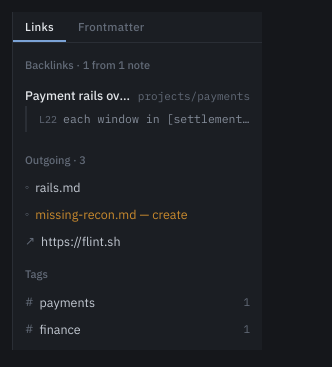
Scenario: RightSidebar › switches to the Frontmatter tab via click and shows its fields
This screenshot has width=332, height=367.
Expected: the text "title" is not shown
Step 1. Click the tab "Frontmatter" → (111, 27), box [66, 12, 156, 42]
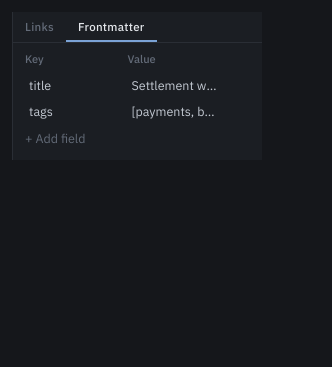
Expected: the button "title" is shown, [25, 74, 120, 96]
Expected: the button "[payments, bbps]" is shown, [128, 100, 222, 123]
